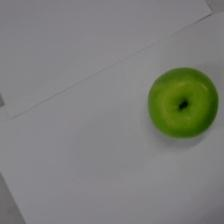green: (148, 67, 219, 138)
